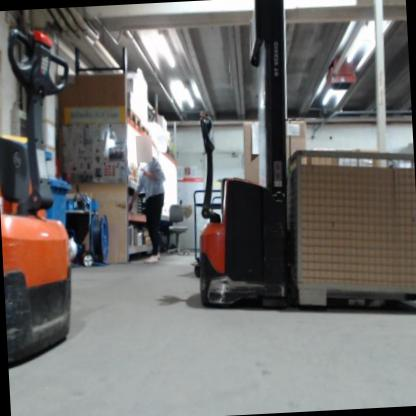pallet: (124, 109, 143, 130)
pallet_truck: (179, 0, 303, 316), (0, 20, 80, 376)
stillage: (283, 141, 416, 315)
